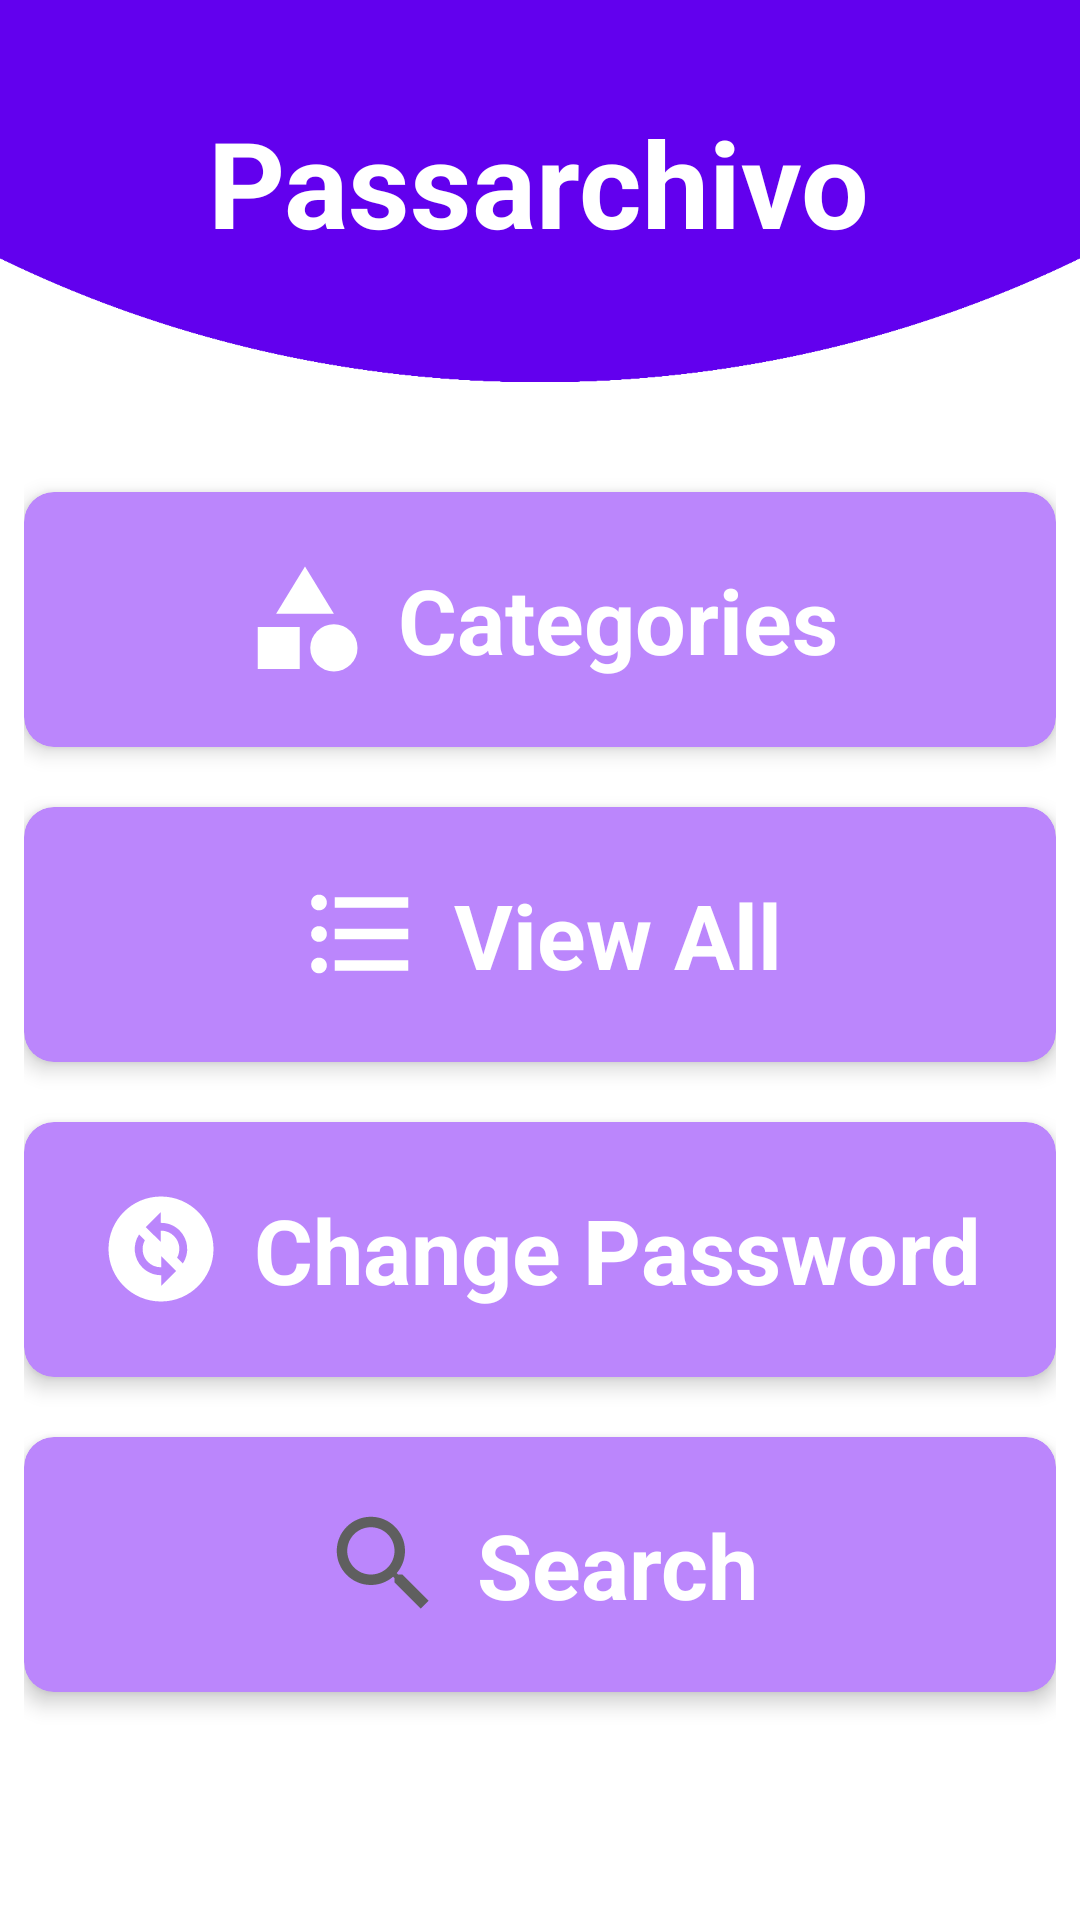

Screen size 1080 x 1920. Icon name, then its box in pixels as bbox(x1, y1, x2, y2):
category: bbox(257, 567, 358, 672)
change circle: bbox(108, 1196, 214, 1302)
format list bulleted: bbox(311, 894, 409, 974)
